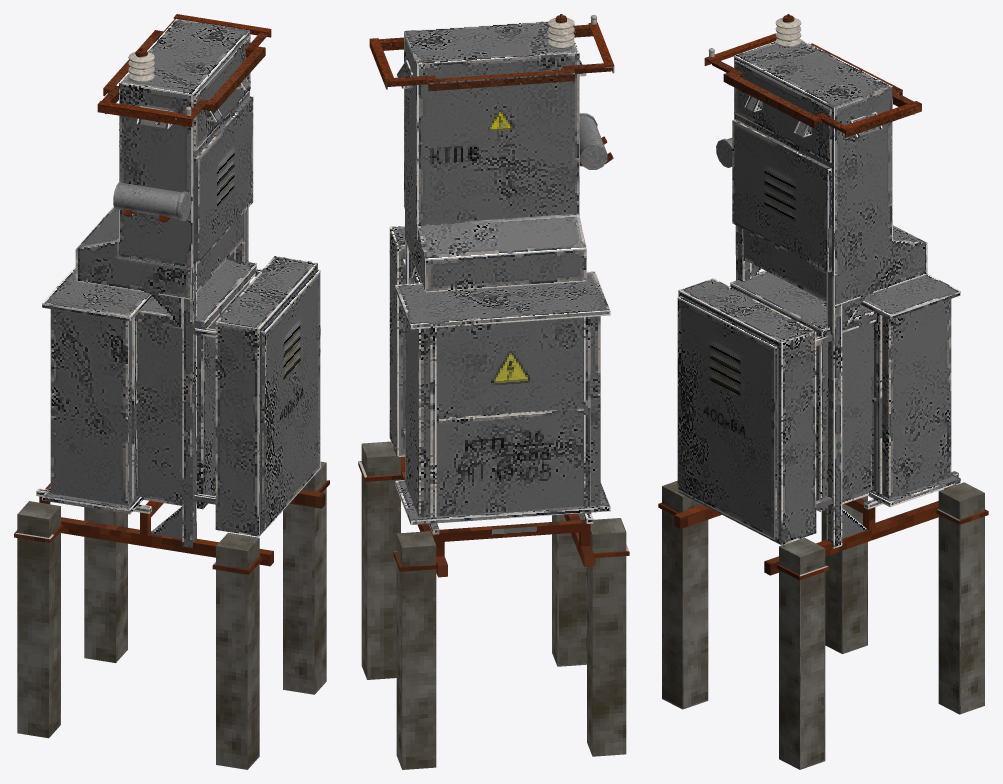
File: transformator.glb
3 renders of one model, left to right at view 1: azimuth 30°, elevation 25°; view 2: azimuth 150°, elevation 25°; view 3: azimuth 270°, elevation 25°, orthographic. The views are drawn at different scales.
Size of the model in its own units: 1.16 by 2.61 by 1.17.
1 material, 1 textured.
